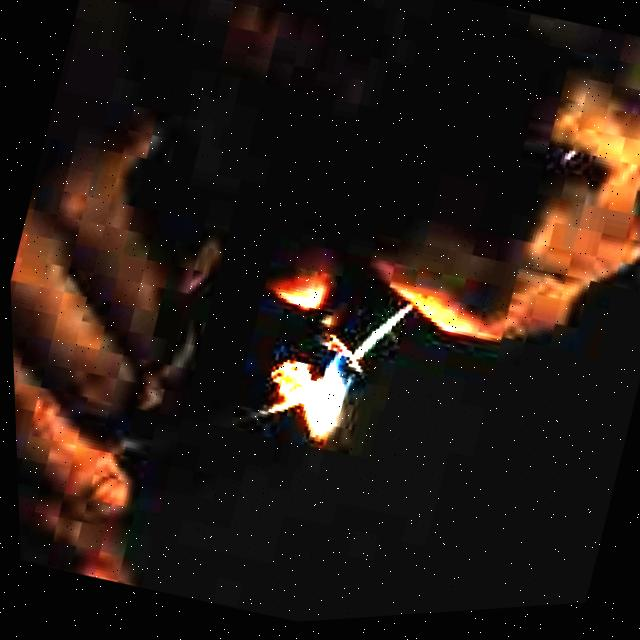Fire: (263, 315, 373, 459)
